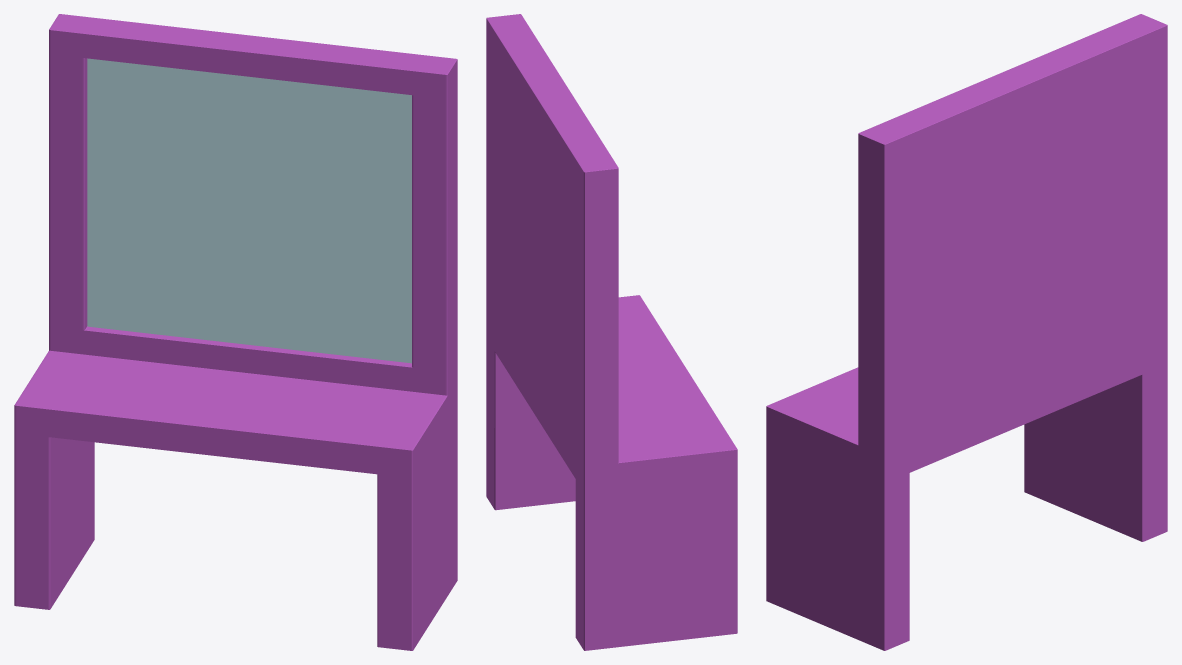
File: tocadorCandace.obj
3 views of the same model, side by side, from view 1: azimuth 30°, elevation 25°; view 2: azimuth 150°, elevation 25°; view 3: azimuth 270°, elevation 25° (orthographic). The views are drawn at different scales.
Visible parts, largest first — view 1: polySurface327 polySurface353, polySurface327 polySurface367; view 2: polySurface327 polySurface353; view 3: polySurface327 polySurface353.
Part boxes in pixels (box(x1,y1,x2,y2)): polySurface327 polySurface353: box(14, 14, 457, 650); polySurface327 polySurface367: box(87, 58, 411, 363); polySurface327 polySurface353: box(486, 14, 737, 650); polySurface327 polySurface353: box(766, 14, 1167, 650).
Size of the model in its own units: 0.5616 by 0.7819 by 0.5616.
4 materials, 2 textured.
